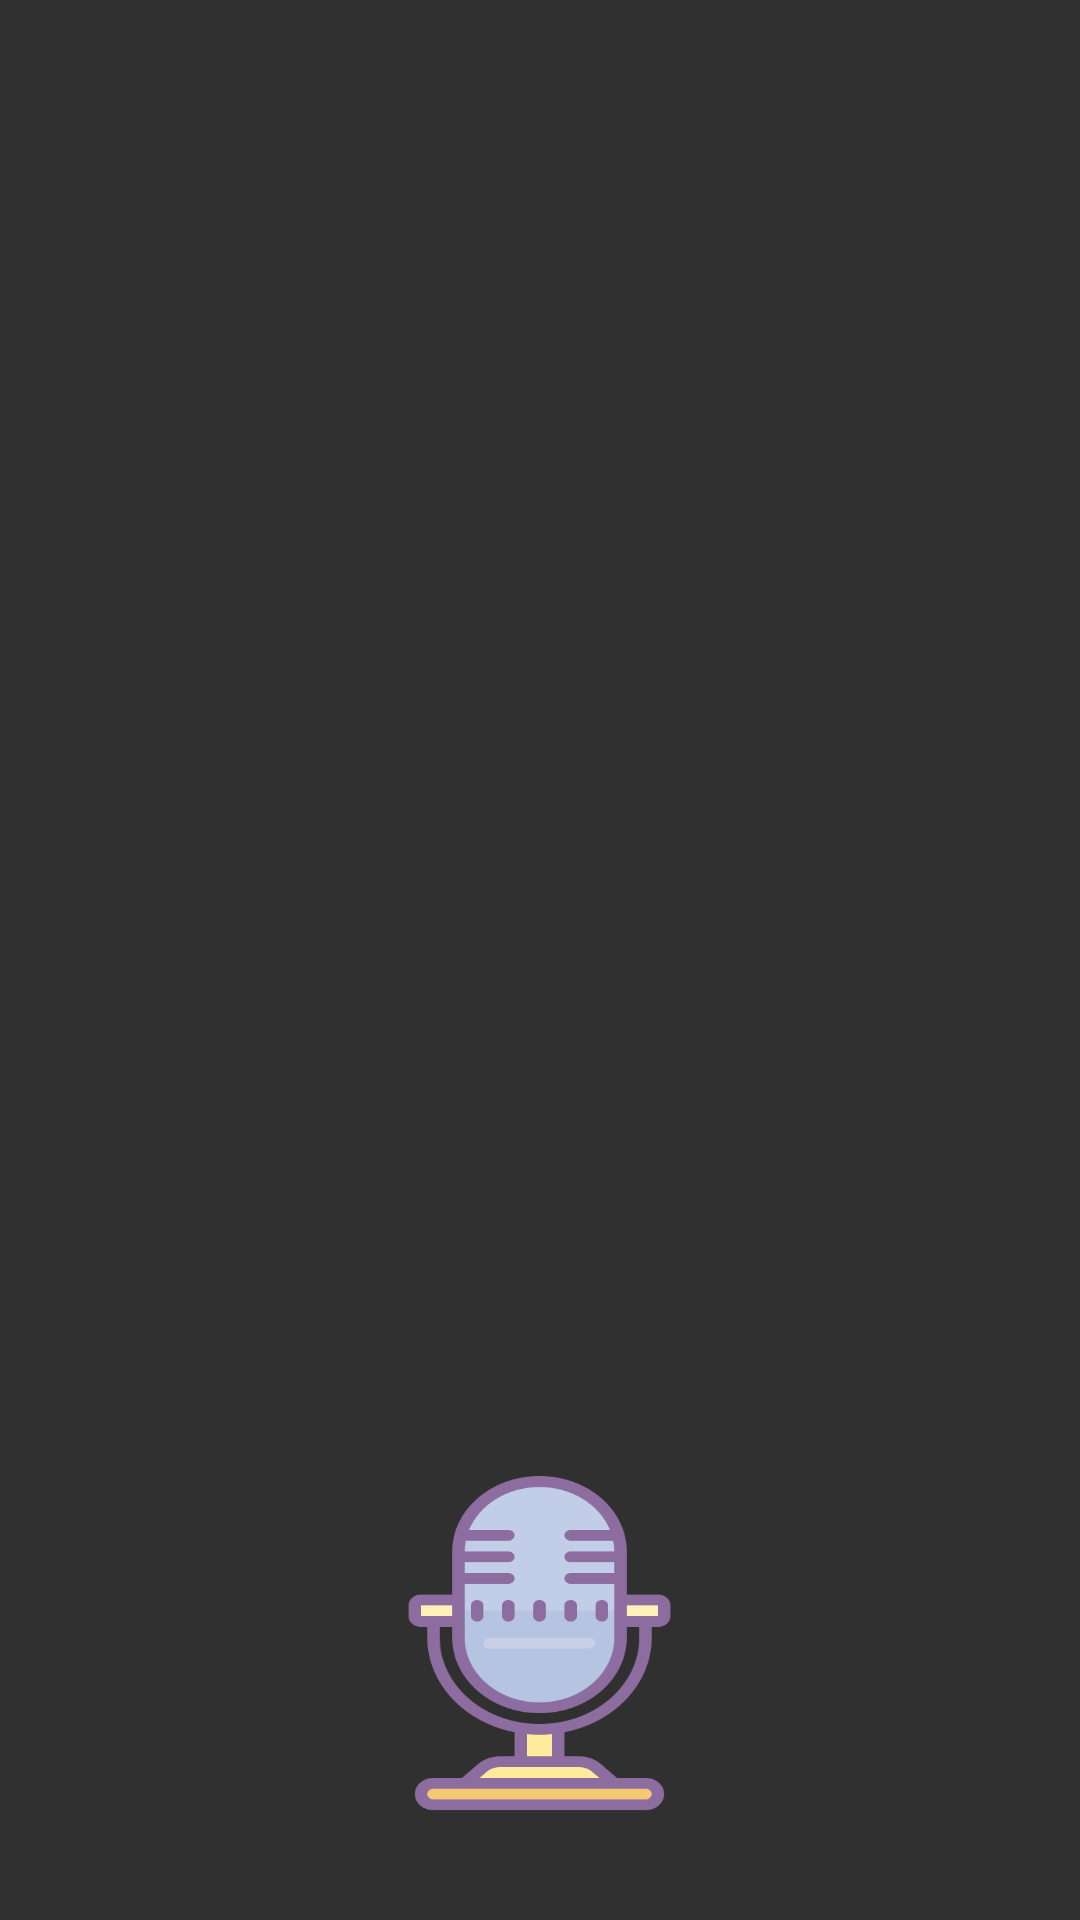

Icon bounding boxes for this 1080 × 1920 phone screenshot, format (x1,y1,x2,y2):
microphone: (408,1476,671,1810)
